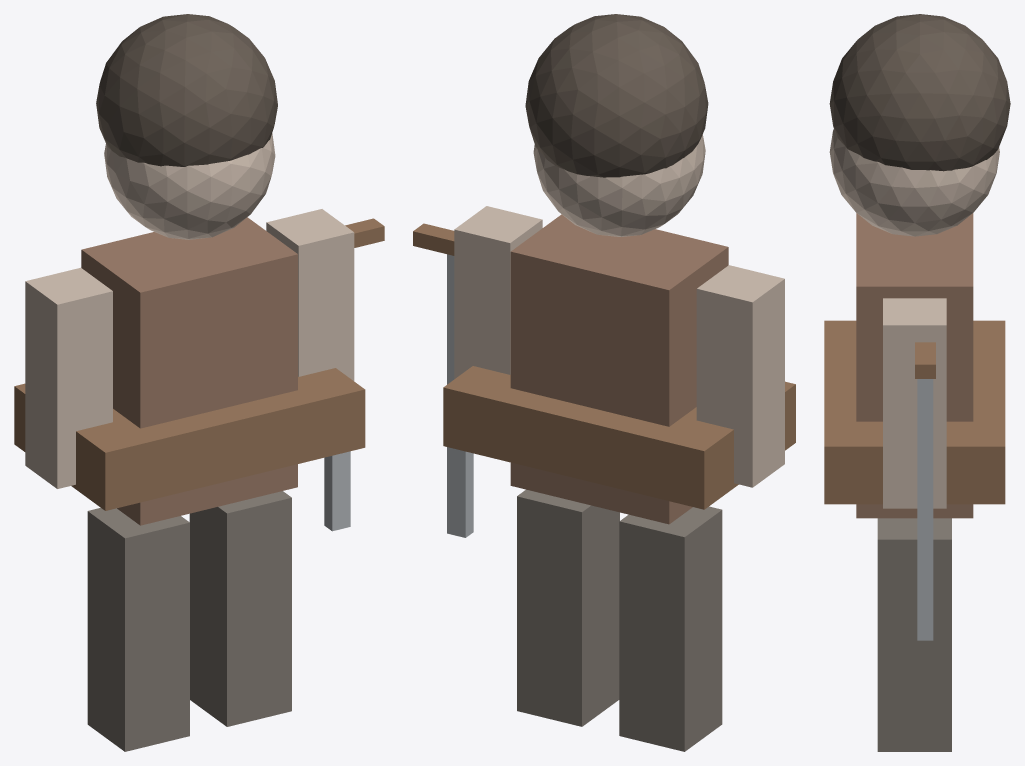
Rendered from giant.glb.
3 views of the same model, side by side, from view 1: azimuth 30°, elevation 25°; view 2: azimuth 150°, elevation 25°; view 3: azimuth 270°, elevation 25° (orthographic).
Parts seen in each view (by area): view 1: g0, g7, g4, g6, g5, g2, g1, g3, g8, g9; view 2: g0, g6, g4, g7, g5, g2, g3, g1, g8, g9; view 3: g6, g7, g0, g5, g3, g1, g8, g9.
Part boxes in pixels (x1,y1,x2,y2): g0: (81, 217, 297, 525); g7: (14, 368, 365, 510); g4: (87, 507, 189, 751); g6: (96, 14, 277, 166); g5: (189, 491, 291, 726); g2: (25, 267, 112, 488); g1: (104, 133, 275, 239); g3: (266, 209, 354, 380); g8: (324, 451, 350, 531); g9: (345, 218, 384, 247); g0: (510, 214, 728, 524); g6: (525, 14, 708, 177); g4: (619, 506, 722, 751); g7: (443, 366, 795, 509); g5: (517, 489, 619, 726); g2: (696, 265, 784, 487); g3: (454, 206, 542, 378); g1: (533, 134, 705, 236); g8: (447, 254, 473, 537); g9: (413, 223, 454, 255); g6: (829, 14, 1010, 171); g7: (824, 320, 1005, 504); g0: (856, 213, 973, 518); g5: (877, 518, 951, 751); g3: (883, 298, 946, 508); g1: (829, 129, 999, 236); g8: (917, 379, 933, 640); g9: (915, 342, 935, 378).
Bounding box in the file's own units: 1.07 × 2.07 × 0.5075.
